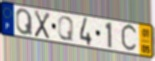1: (104, 21, 113, 50)
4: (79, 17, 93, 48)
C: (120, 24, 139, 54)
Q: (15, 8, 34, 37), (57, 15, 75, 42)
X: (33, 9, 51, 41)
